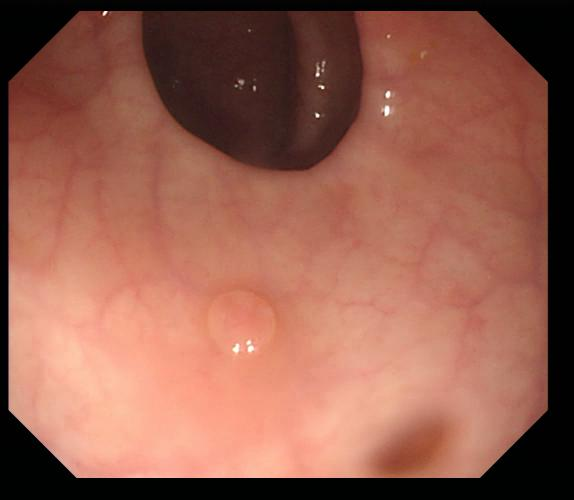polyp: (205, 289, 280, 361)
